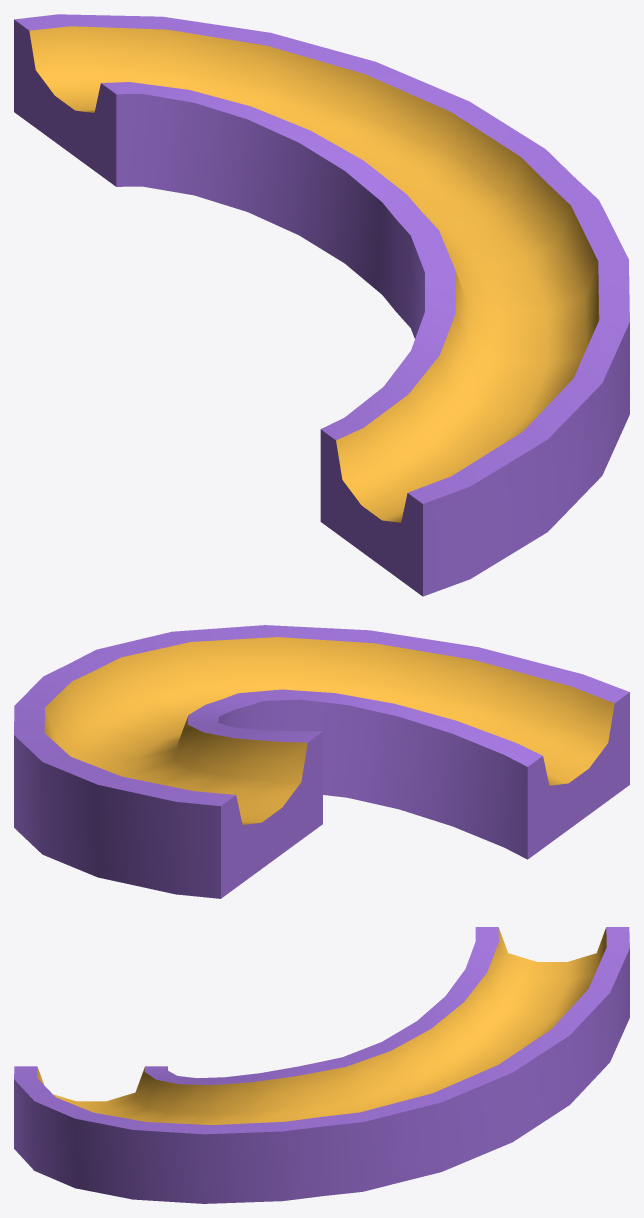
Rendered from helix-half-left-col.glb.
The picture shows the model from 3 angles, top to bottom: view 1: azimuth 30°, elevation 25°; view 2: azimuth 150°, elevation 25°; view 3: azimuth 270°, elevation 25°; orthographic projection. The views are drawn at different scales.
Visible parts, largest first — view 1: helix-half-left-col; view 2: helix-half-left-col; view 3: helix-half-left-col.
Boxes of the visible parts, box(x1,y1,x2,y2) form: helix-half-left-col: box(14, 14, 629, 596); helix-half-left-col: box(14, 625, 629, 898); helix-half-left-col: box(14, 927, 629, 1203).
Size of the model in its own units: 2 by 1.5 by 4.01.
Materials: 1 (1 with a texture image).
